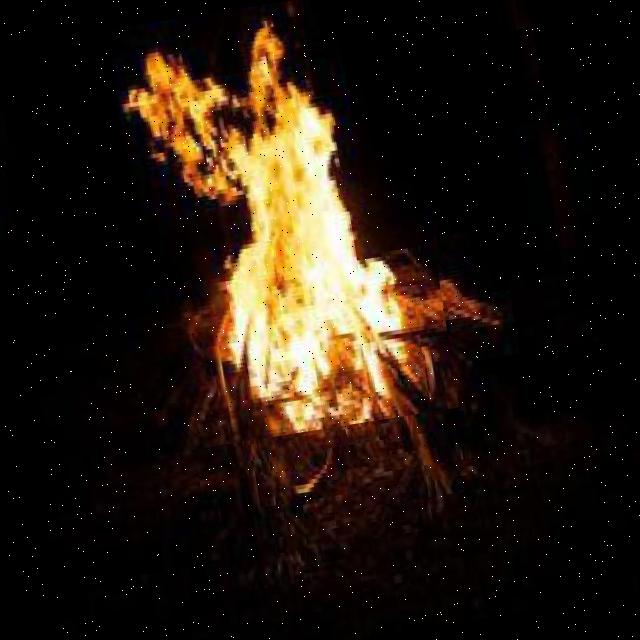fire: (110, 8, 460, 452)
